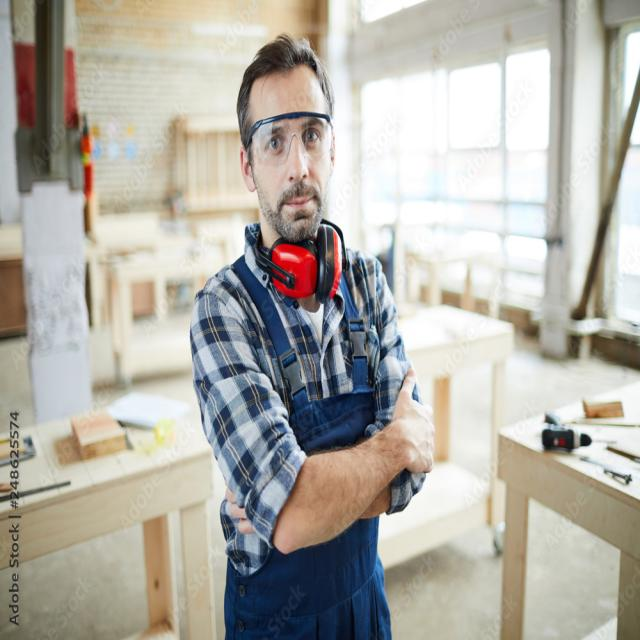Goggles: (239, 114, 337, 173), (260, 168, 337, 234)
